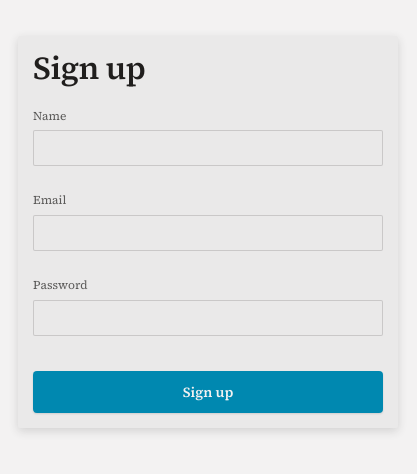
SignupPage › shows an error message on a duplicate email (409)
The width and height of the screenshot is (417, 474).
Type "Jordan" into the field labelled "Name" at (208, 148), box top-left (33, 130), bottom-right (383, 166)
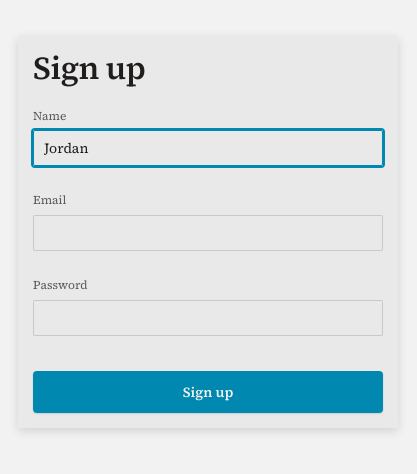
Type "dup@example.com" into the field labelled "Email" at (208, 233), box top-left (33, 215), bottom-right (383, 251)
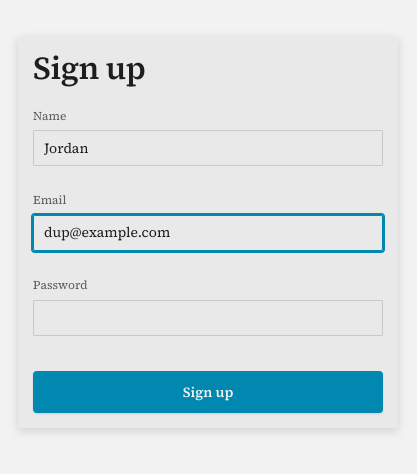
Type "super-secret-1" into the password field labelled "Password" at (208, 318), box top-left (33, 300), bottom-right (383, 336)
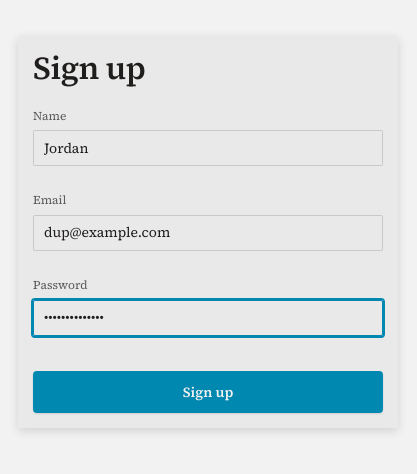
Click the button "Sign up" at (208, 392), box top-left (33, 371), bottom-right (383, 413)
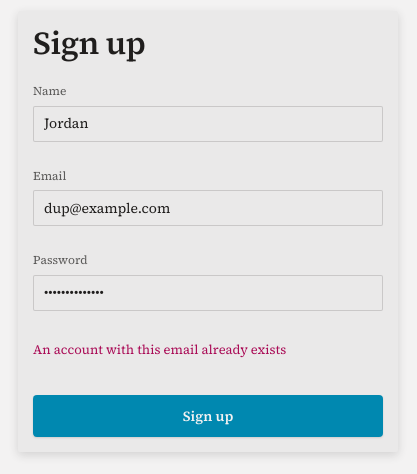
Result: the text "An account with this email already exists" is shown at top-left (33, 341), bottom-right (286, 358)
